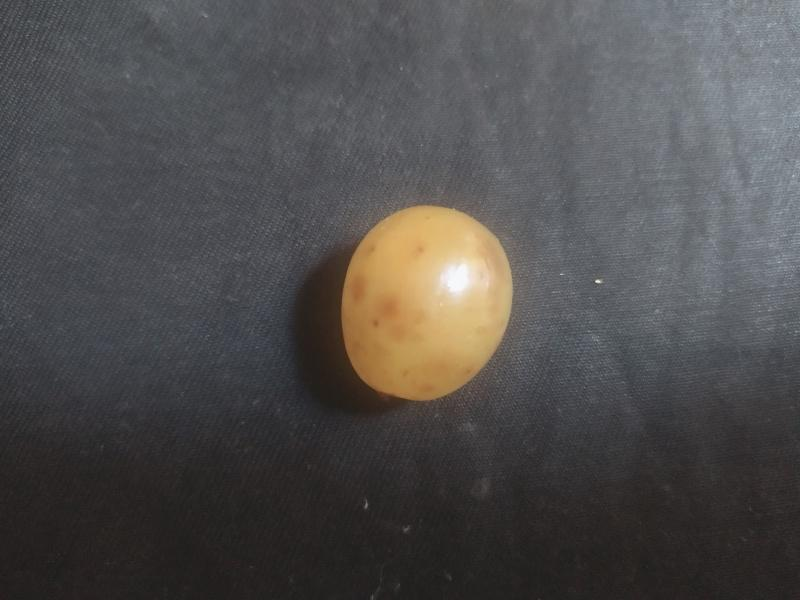Grape Rotten: (341, 203, 514, 402)
